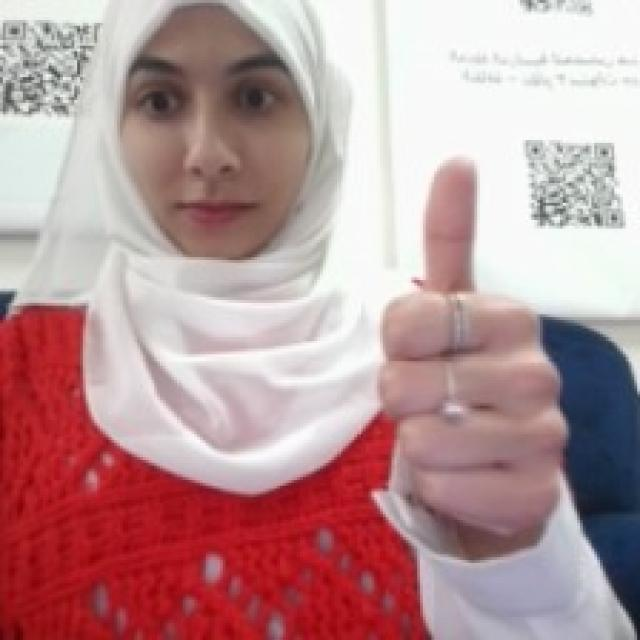fine: (372, 149, 576, 544)
